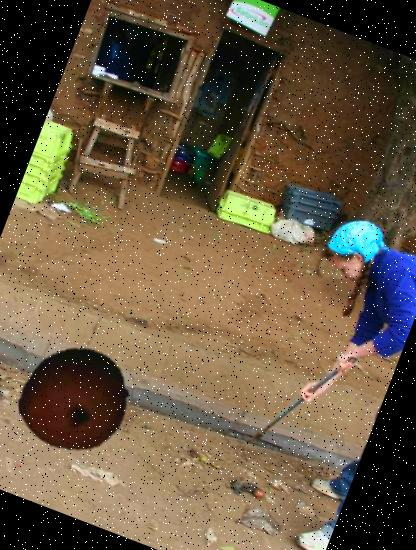Pear: (0, 328, 146, 472)
